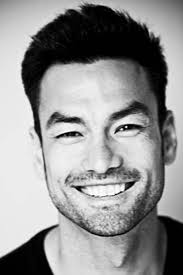asian_male: (43, 52, 169, 236)
